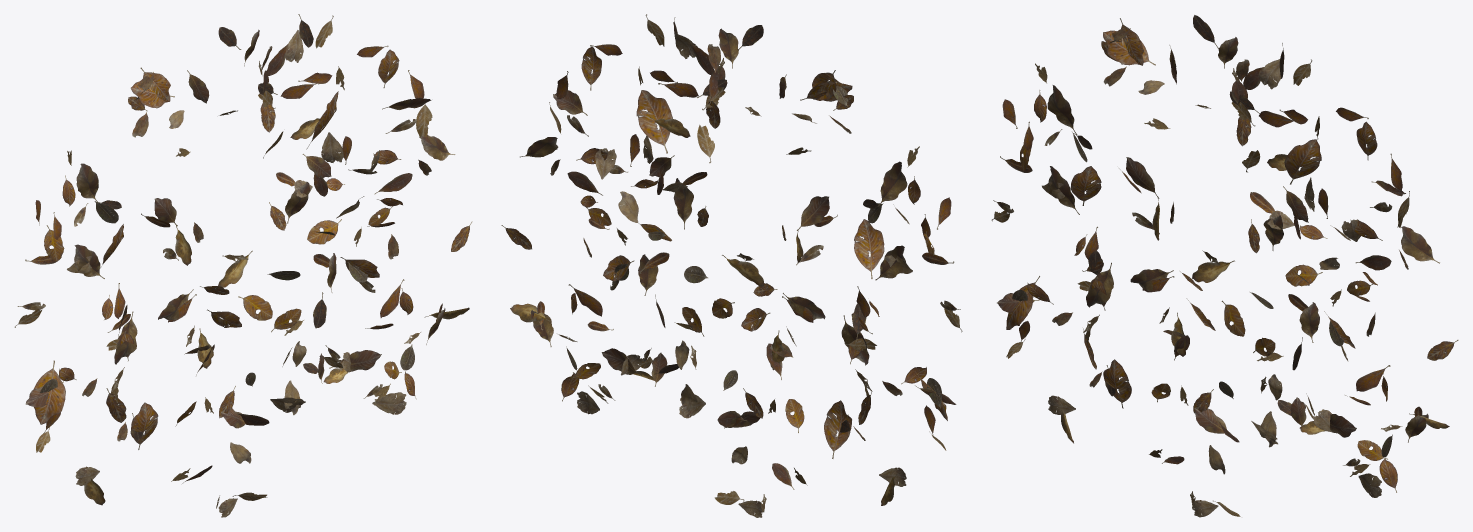
File: Leaf_Pile_01_Var3_LOD0.fbx
The picture shows the model from 3 angles, left to right: view 1: azimuth 30°, elevation 25°; view 2: azimuth 150°, elevation 25°; view 3: azimuth 330°, elevation 25°; orthographic projection.
Parts seen in each view (by area): view 1: Var3_LOD0; view 2: Var3_LOD0; view 3: Var3_LOD0.
Boxes of the visible parts, bbox=[...] form: Var3_LOD0: bbox=[14, 14, 472, 517]; Var3_LOD0: bbox=[501, 14, 962, 517]; Var3_LOD0: bbox=[991, 15, 1458, 517].
Bounding box in the file's own units: 161 × 165 × 8.57.
